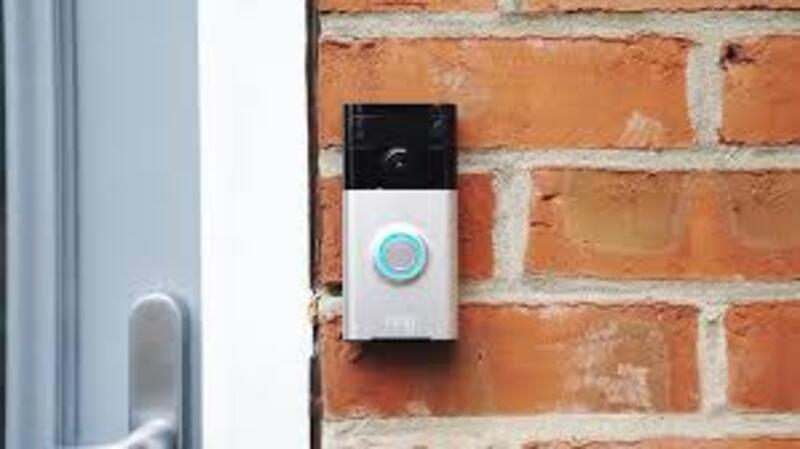doorbell: (346, 104, 452, 332)
